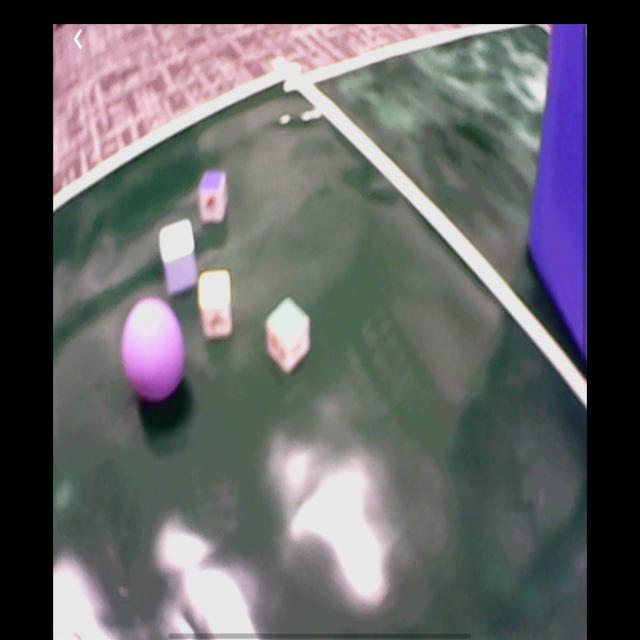ball: (122, 299, 188, 405)
